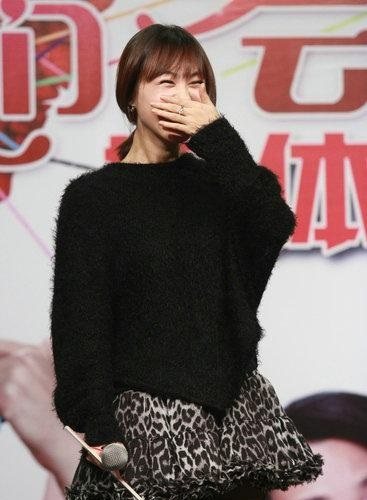face: (138, 45, 208, 143)
